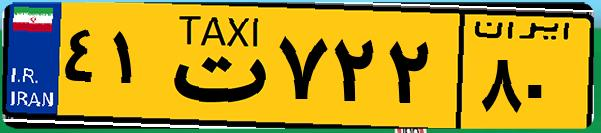0: (525, 38, 570, 115)
1: (110, 28, 158, 98)
2: (385, 28, 445, 110), (330, 28, 385, 110)
4: (57, 26, 110, 100)
7: (270, 28, 330, 110)
8: (475, 38, 525, 113)
ت: (158, 12, 270, 120)
